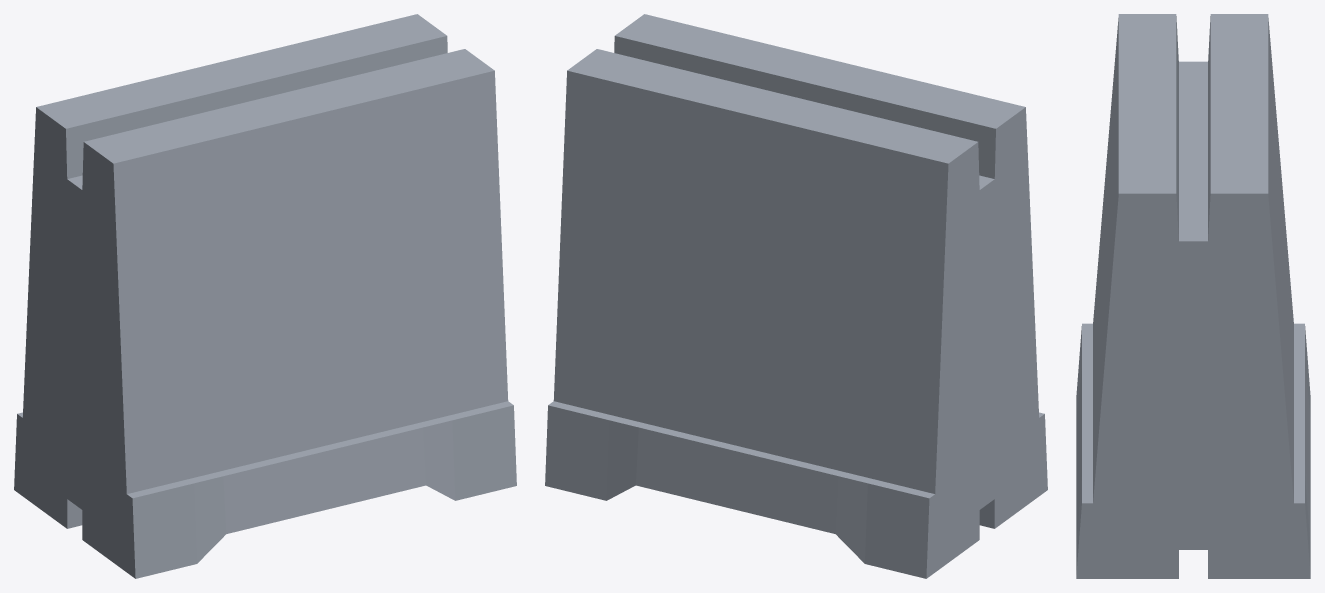
Rendered from Road_Block_001.glb.
3 views of the same model, side by side, from view 1: azimuth 30°, elevation 25°; view 2: azimuth 150°, elevation 25°; view 3: azimuth 270°, elevation 25° (orthographic). The views are drawn at different scales.
Visible parts, largest first — view 1: Road Block.001; view 2: Road Block.001; view 3: Road Block.001.
Boxes of the visible parts, bbox=[...] form: Road Block.001: bbox=[14, 14, 516, 578]; Road Block.001: bbox=[545, 14, 1047, 578]; Road Block.001: bbox=[1076, 14, 1310, 578].
Size of the model in its own units: 4.8 by 4.8 by 2.65.
Materials: 1 (1 with a texture image).
